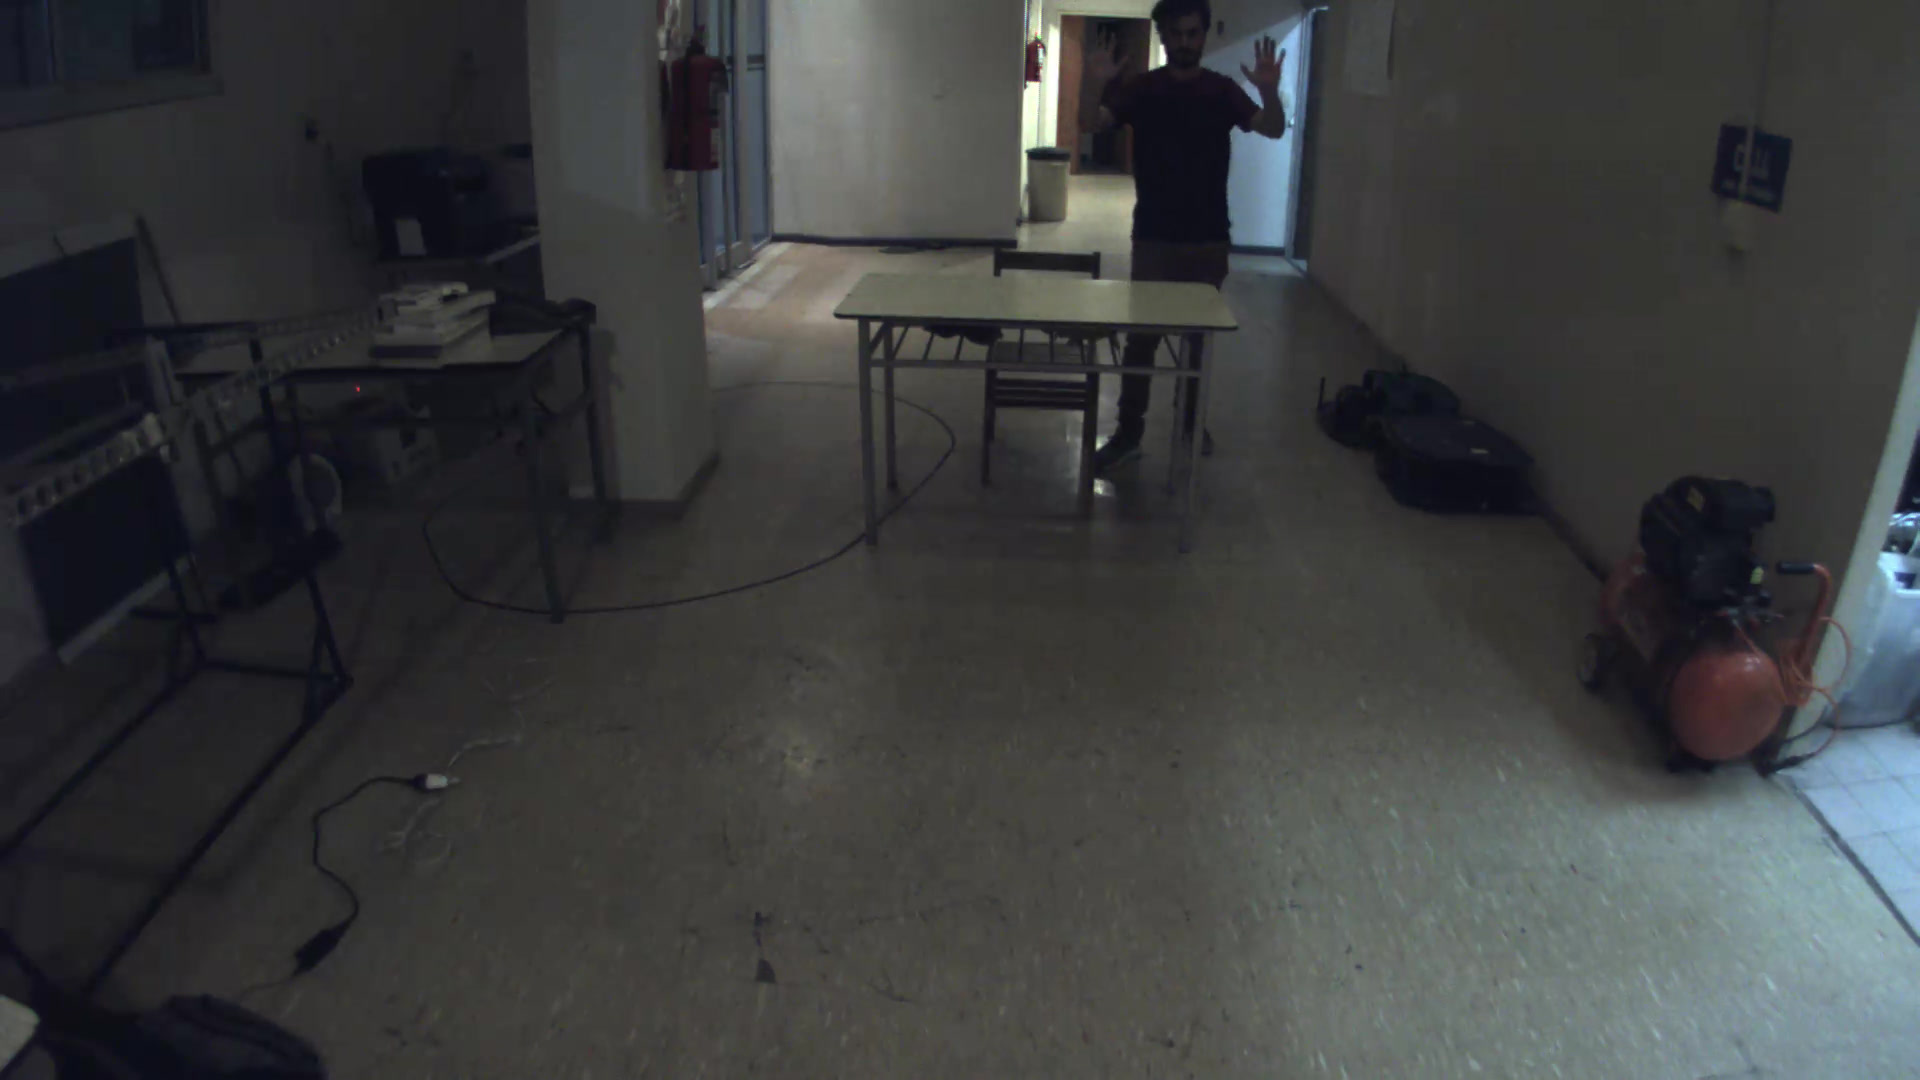hand: (1238, 32, 1299, 98), (1071, 28, 1135, 83)
